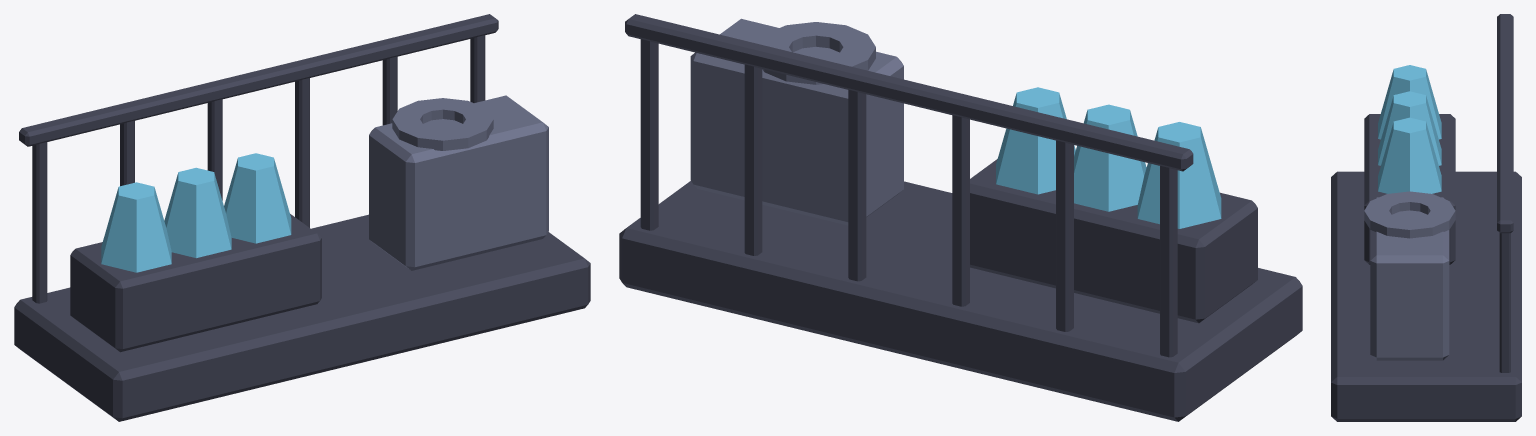
File: RusunBalconyUnit.fbx
3 views of the same model, side by side, from view 1: azimuth 30°, elevation 25°; view 2: azimuth 150°, elevation 25°; view 3: azimuth 270°, elevation 25° (orthographic). The views are drawn at different scales.
Parts seen in each view (by area): view 1: Rusun_Structure, Rusun_ACUnit, Rusun_PlanterGreens; view 2: Rusun_Structure, Rusun_ACUnit, Rusun_PlanterGreens; view 3: Rusun_Structure, Rusun_ACUnit, Rusun_PlanterGreens.
Boxes of the visible parts, x1,y1,x2,y2 form: Rusun_Structure: (14,14,590,421); Rusun_ACUnit: (369,95,548,270); Rusun_PlanterGreens: (101,153,291,272); Rusun_Structure: (619,14,1302,421); Rusun_ACUnit: (690,18,903,225); Rusun_PlanterGreens: (996,87,1221,228); Rusun_Structure: (1331,14,1521,421); Rusun_ACUnit: (1364,191,1455,360); Rusun_PlanterGreens: (1378,65,1441,193).
Bounding box in the file's own units: 2.4 × 1.08 × 0.92.
